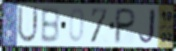0: (67, 7, 86, 45)
7: (90, 8, 109, 45)
B: (39, 6, 61, 45)
J: (136, 7, 158, 47)
P: (113, 7, 138, 46)
U: (16, 4, 40, 45)
